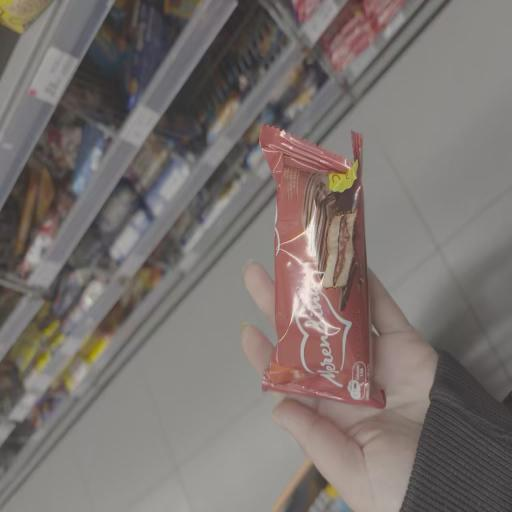merendina: (251, 116, 393, 412)
